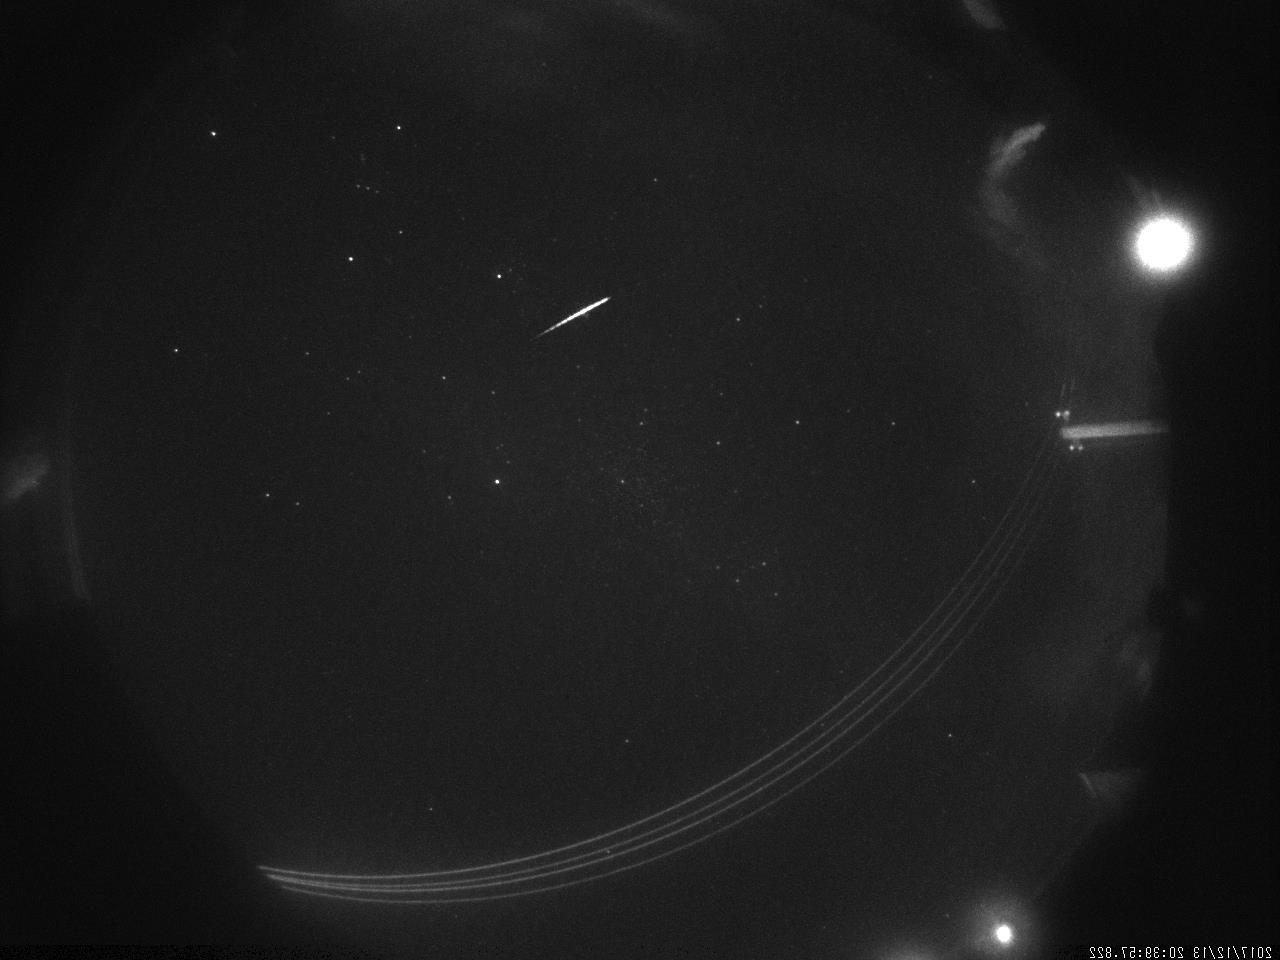meteor: (536, 289, 622, 346)
